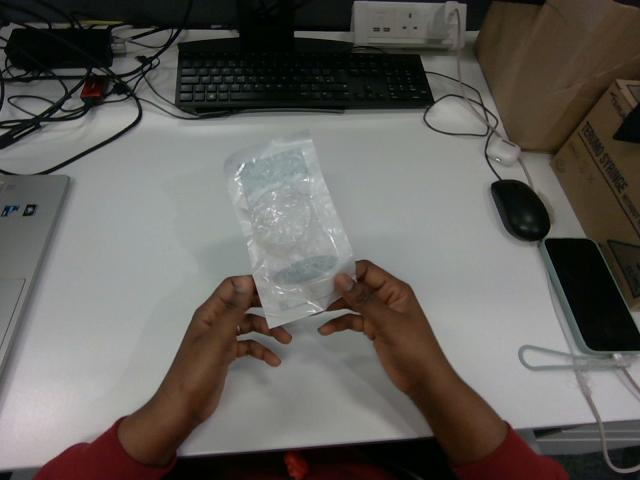gallipot: (224, 131, 355, 328)
